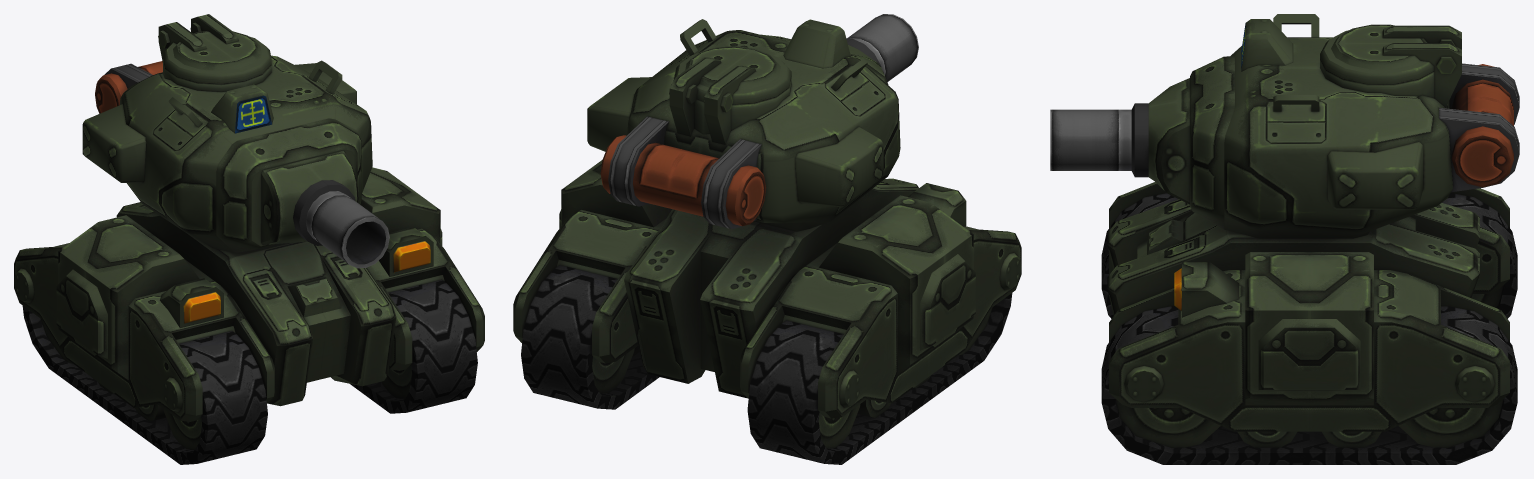
The model's file is Cartoon_TL_FBX.FBX.
The picture shows the model from 3 angles, left to right: view 1: azimuth 30°, elevation 25°; view 2: azimuth 150°, elevation 25°; view 3: azimuth 270°, elevation 25°; orthographic projection. The views are drawn at different scales.
Visible parts, largest first — view 1: Cartoon_TL_Base, Cartoon_TL_Turret; view 2: Cartoon_TL_Base, Cartoon_TL_Turret; view 3: Cartoon_TL_Base, Cartoon_TL_Turret.
Boxes of the visible parts, x1,y1,x2,y2 form: Cartoon_TL_Base: (14, 167, 484, 464); Cartoon_TL_Turret: (82, 14, 389, 268); Cartoon_TL_Base: (513, 160, 1021, 464); Cartoon_TL_Turret: (587, 14, 918, 231); Cartoon_TL_Base: (1101, 182, 1517, 464); Cartoon_TL_Turret: (1050, 14, 1519, 238).
Bounding box in the file's own units: 6.8 × 6.01 × 7.21.
